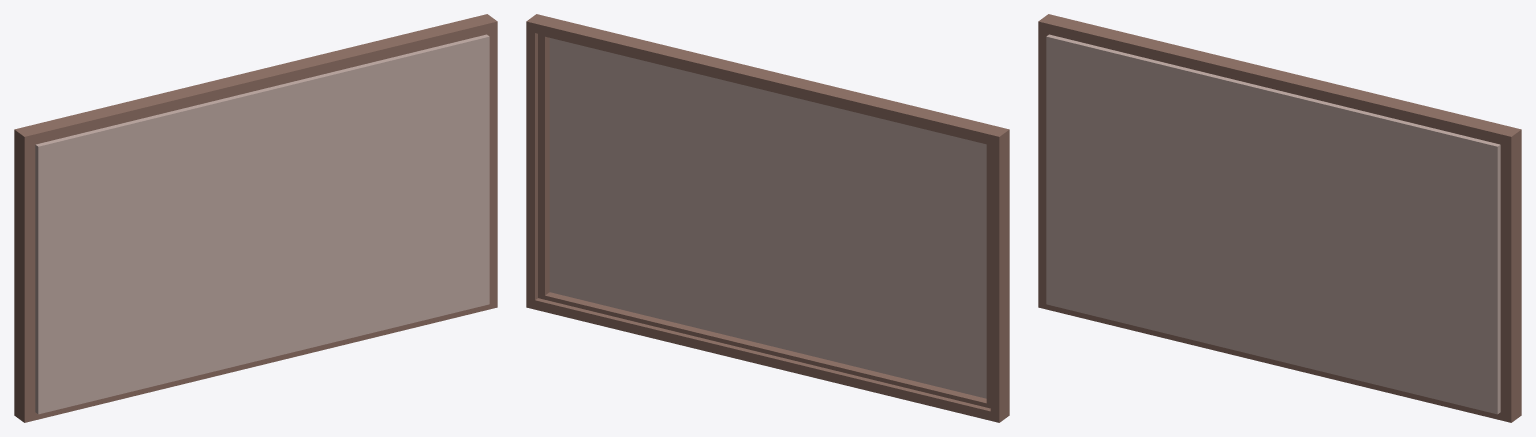
The model's file is Object_BlankFrame_Tan.glb.
The picture shows the model from 3 angles, left to right: view 1: azimuth 30°, elevation 25°; view 2: azimuth 150°, elevation 25°; view 3: azimuth 330°, elevation 25°; orthographic projection.
Visible parts, largest first — view 1: Wall F.008, Wall F.007; view 2: Wall F.008, Wall F.007; view 3: Wall F.008, Wall F.007.
Part boxes in pixels (x1=…): Wall F.008: x1=35, y1=34, x2=489, y2=414; Wall F.007: x1=14, y1=14, x2=497, y2=422; Wall F.008: x1=549, y1=38, x2=986, y2=398; Wall F.007: x1=526, y1=14, x2=1009, y2=422; Wall F.008: x1=1046, y1=34, x2=1500, y2=414; Wall F.007: x1=1038, y1=14, x2=1521, y2=422.
Size of the model in its own units: 15.58 by 9 by 0.7495.
